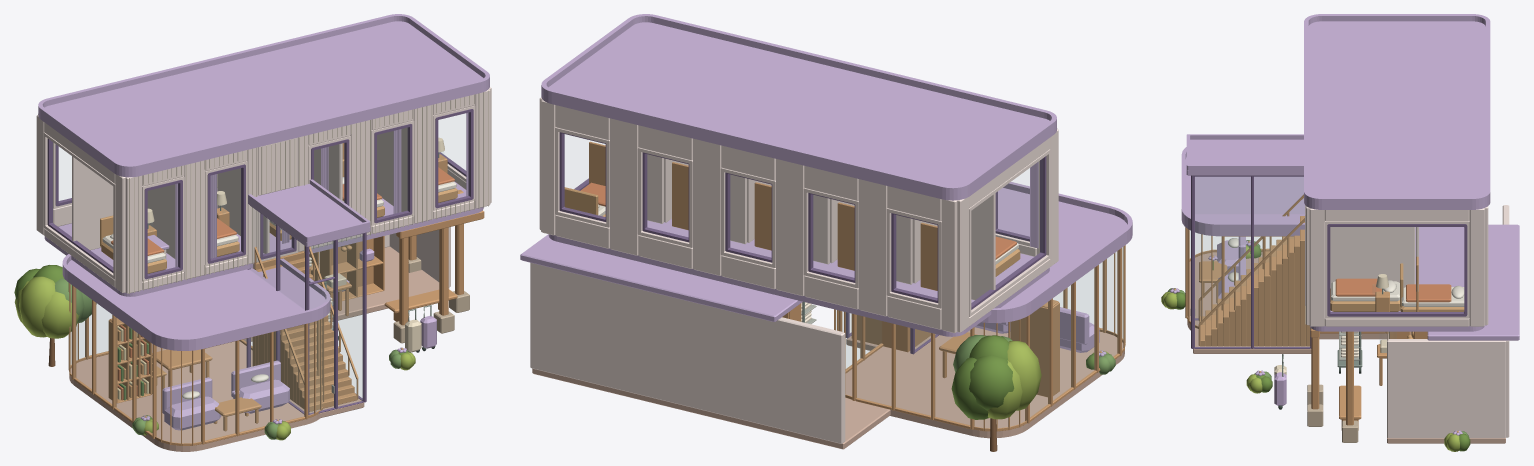
3 renders of one model, left to right at view 1: azimuth 30°, elevation 25°; view 2: azimuth 150°, elevation 25°; view 3: azimuth 270°, elevation 25°, orthographic. The views are drawn at different scales.
Parts seen in each view (by area): view 1: R 客房翼柔紫平屋顶, A 墙体, R 公共翼圆角平屋顶, R 客房翼圆角女儿墙, A 休息翼弧形落地窗, S 休息翼楼面, A 楼梯塔玻璃, A 圆角窗框, A 客房隔墙, A 窗角实墙, A 窗上墙, S 楼梯踏步 (+28 smaller); view 2: R 客房翼柔紫平屋顶, A 后勤后墙, A 墙体, R 客房翼圆角女儿墙, A 休息翼弧形落地窗, S 休息翼楼面, A 窗角实墙, R 后勤平屋面, A 窗上墙, A 窗下墙, A 客房走廊隔墙, L 乔木 · 枝干与树冠 (+15 smaller); view 3: R 客房翼柔紫平屋顶, A 后勤侧墙, S 楼梯踏步, R 公共翼圆角平屋顶, A 楼梯塔玻璃, R 客房翼圆角女儿墙, A 墙体, A 客房隔墙, R 后勤平屋面, S 二层客房楼板, R 楼梯塔小平顶, A 圆角窗框 (+23 smaller).
Part boxes in pixels (x1=…): R 客房翼柔紫平屋顶: x1=38, y1=21, x2=489, y2=177; A 墙体: x1=36, y1=87, x2=491, y2=293; R 公共翼圆角平屋顶: x1=62, y1=260, x2=330, y2=350; R 客房翼圆角女儿墙: x1=38, y1=14, x2=489, y2=172; A 休息翼弧形落地窗: x1=68, y1=283, x2=324, y2=445; S 休息翼楼面: x1=69, y1=341, x2=320, y2=451; A 楼梯塔玻璃: x1=246, y1=205, x2=366, y2=415; A 圆角窗框: x1=47, y1=109, x2=473, y2=279; A 客房隔墙: x1=147, y1=127, x2=407, y2=258; A 窗角实墙: x1=43, y1=105, x2=475, y2=281; A 窗上墙: x1=44, y1=94, x2=474, y2=195; S 楼梯踏步: x1=252, y1=251, x2=356, y2=411; R 客房翼柔紫平屋顶: x1=541, y1=22, x2=1056, y2=200; A 后勤后墙: x1=530, y1=262, x2=845, y2=443; A 墙体: x1=539, y1=97, x2=1058, y2=333; R 客房翼圆角女儿墙: x1=541, y1=14, x2=1056, y2=195; A 休息翼弧形落地窗: x1=834, y1=245, x2=1125, y2=431; S 休息翼楼面: x1=845, y1=327, x2=1124, y2=438; A 窗角实墙: x1=555, y1=127, x2=1050, y2=317; R 后勤平屋面: x1=520, y1=234, x2=802, y2=321; A 窗上墙: x1=555, y1=105, x2=1050, y2=221; A 窗下墙: x1=555, y1=215, x2=1050, y2=329; A 客房走廊隔墙: x1=647, y1=154, x2=995, y2=300; L 乔木 · 枝干与树冠: x1=951, y1=335, x2=1041, y2=451; R 客房翼柔紫平屋顶: x1=1304, y1=21, x2=1490, y2=209; A 后勤侧墙: x1=1387, y1=339, x2=1505, y2=438; S 楼梯踏步: x1=1199, y1=216, x2=1310, y2=346; R 公共翼圆角平屋顶: x1=1181, y1=157, x2=1304, y2=236; A 楼梯塔玻璃: x1=1190, y1=175, x2=1311, y2=348; R 客房翼圆角女儿墙: x1=1304, y1=14, x2=1490, y2=205; A 墙体: x1=1306, y1=206, x2=1488, y2=326; A 客房隔墙: x1=1330, y1=227, x2=1415, y2=288; R 后勤平屋面: x1=1427, y1=224, x2=1519, y2=340; S 二层客房楼板: x1=1310, y1=227, x2=1484, y2=331; R 楼梯塔小平顶: x1=1186, y1=139, x2=1303, y2=175; A 圆角窗框: x1=1305, y1=206, x2=1467, y2=316.
Bounding box in the file's own units: 22.37 × 12.19 × 15.95.
